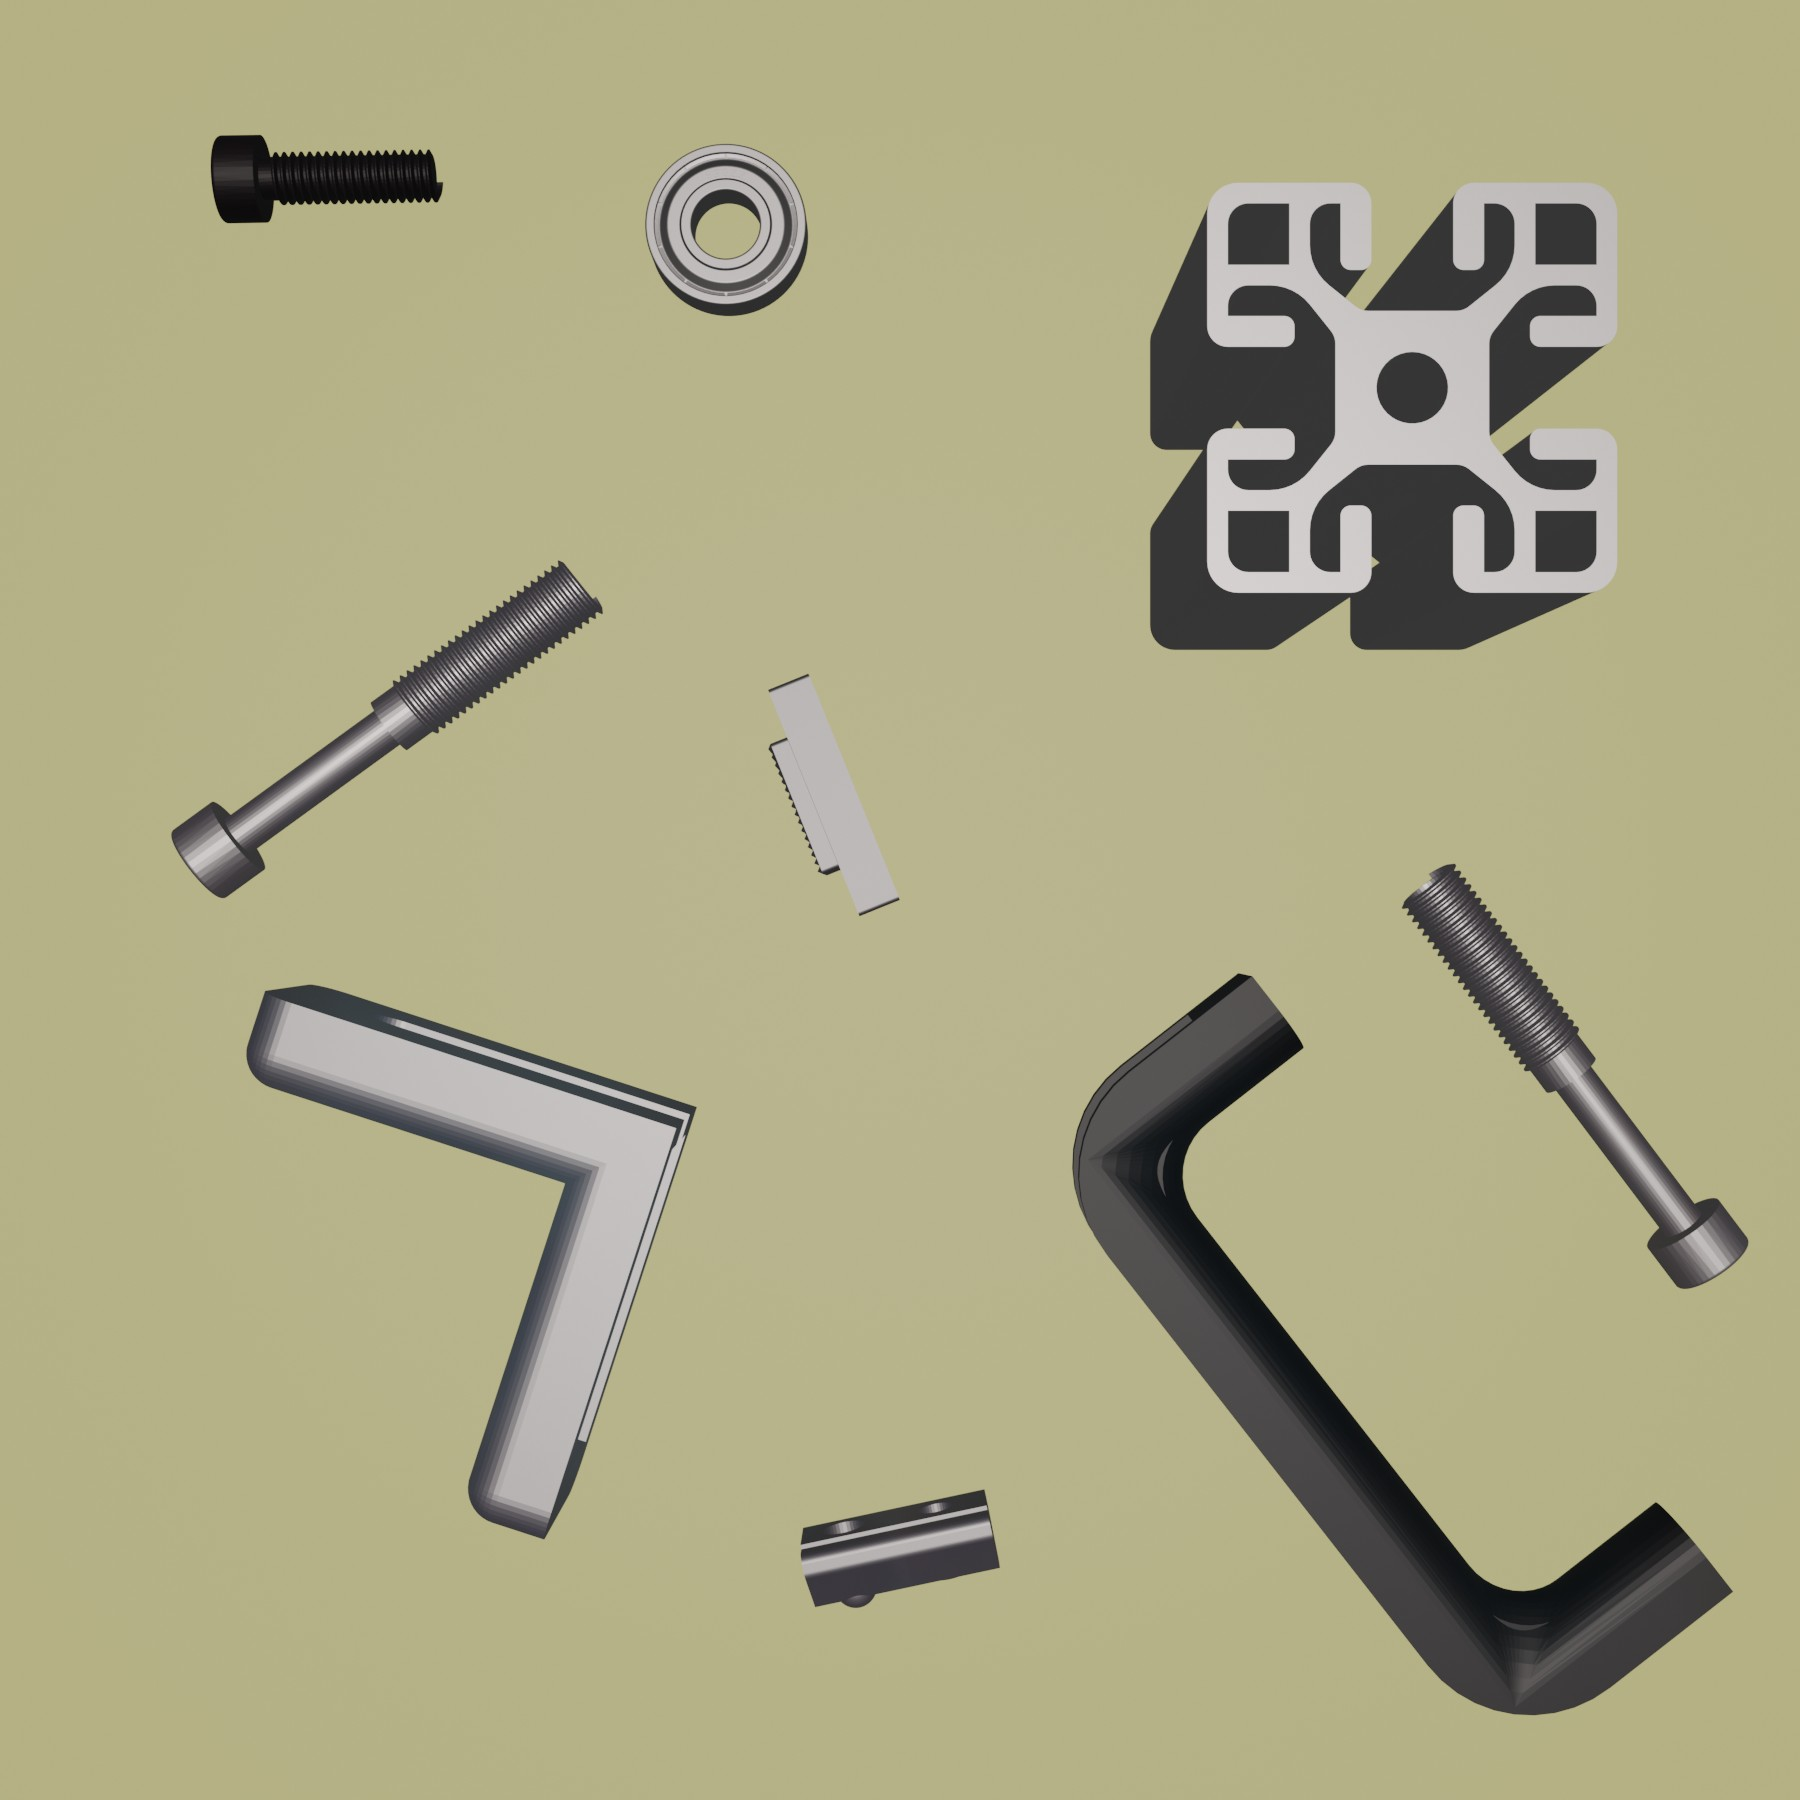Aluminium Extension: (1146, 178, 1625, 654)
Ball Bearing: (641, 142, 809, 320)
Multiwinkel: (244, 981, 701, 1541)
Pull Handle: (1070, 973, 1736, 1719)
Shoulder Socket Head Cap Screw: (1403, 862, 1751, 1292), (170, 557, 605, 900)
Socket Head Cap Screw: (206, 130, 447, 227)
T Nut Square: (762, 668, 903, 926)
T Spring Nut: (798, 1484, 1005, 1610)
